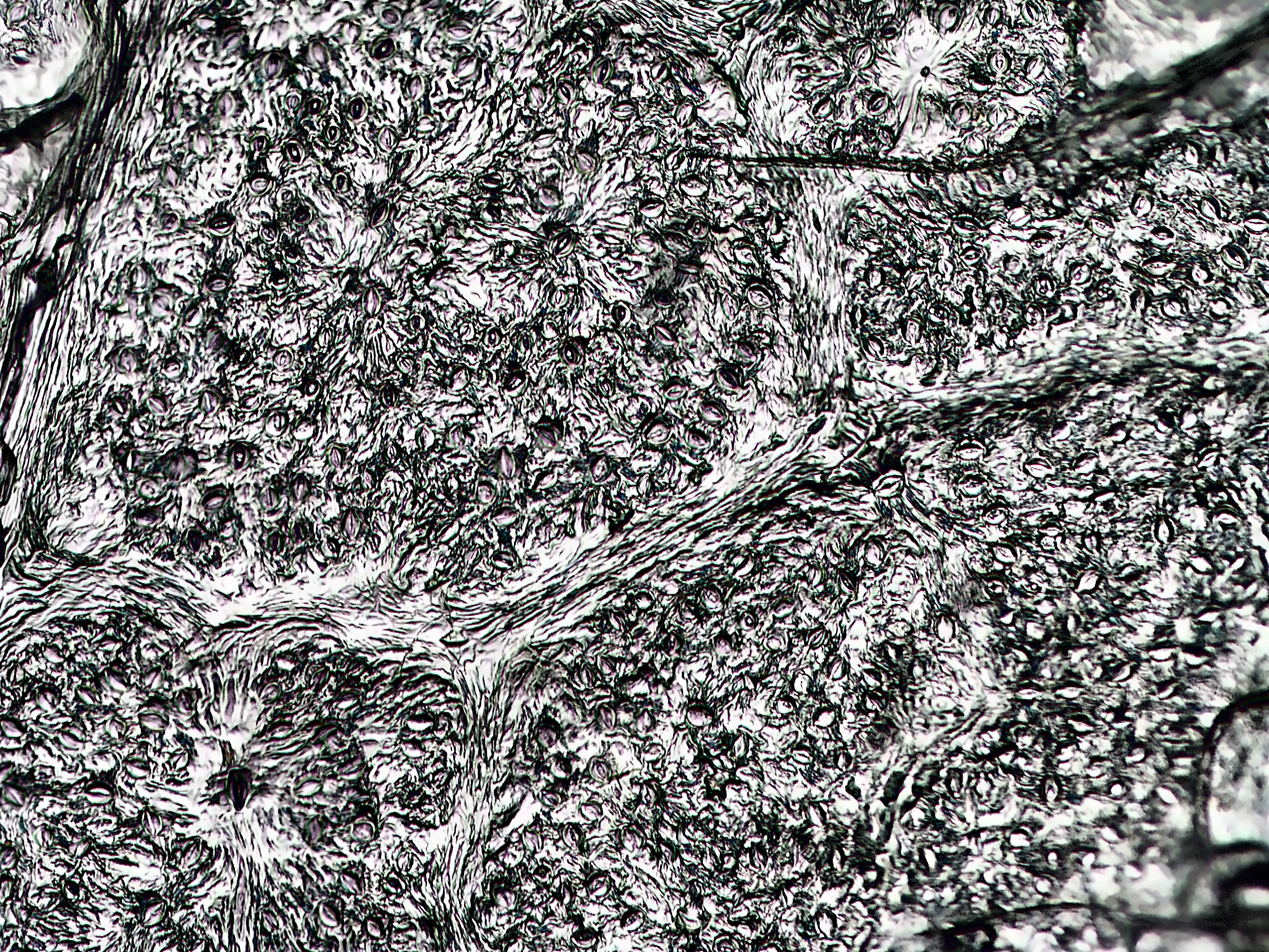stomata: (226, 769, 249, 812), (138, 704, 169, 731), (936, 3, 961, 34), (495, 446, 517, 481), (952, 437, 985, 460), (1220, 242, 1248, 269), (551, 230, 577, 259), (959, 472, 988, 498), (141, 898, 167, 927), (84, 781, 114, 806), (816, 906, 838, 940), (1021, 301, 1045, 332), (1141, 256, 1176, 277), (102, 667, 130, 693), (727, 552, 755, 578), (850, 42, 875, 71), (903, 190, 932, 215), (643, 419, 672, 444), (713, 365, 742, 390), (228, 442, 253, 471), (179, 838, 203, 868), (1183, 646, 1214, 669), (987, 48, 1013, 75), (58, 725, 86, 750), (1074, 568, 1102, 593), (492, 882, 517, 910), (900, 316, 924, 345), (1039, 775, 1063, 804), (361, 285, 382, 318), (1012, 683, 1045, 704), (951, 214, 981, 237), (698, 401, 728, 424), (933, 613, 956, 643), (1153, 513, 1175, 544), (684, 706, 715, 728), (317, 900, 342, 927), (434, 518, 461, 543), (140, 808, 164, 836), (863, 536, 884, 568), (588, 757, 612, 785), (1022, 458, 1055, 478), (1108, 661, 1141, 681), (340, 508, 361, 539), (1055, 680, 1086, 701), (1031, 272, 1056, 298), (1130, 191, 1155, 217), (532, 423, 557, 449), (835, 569, 859, 596), (377, 125, 400, 153), (502, 373, 530, 396), (747, 285, 775, 308), (676, 99, 698, 128), (369, 199, 390, 229), (561, 823, 586, 848), (558, 340, 582, 366), (862, 333, 885, 360), (684, 427, 711, 450), (611, 300, 633, 328), (680, 175, 708, 197), (875, 475, 904, 496), (1182, 138, 1202, 168), (292, 417, 317, 441), (863, 690, 888, 714), (587, 872, 611, 897), (591, 58, 614, 84), (1089, 214, 1115, 237), (1129, 287, 1152, 313), (1072, 451, 1098, 474), (36, 685, 59, 711), (719, 291, 741, 318), (732, 245, 759, 267), (991, 542, 1018, 564), (491, 505, 518, 527), (731, 730, 750, 761), (378, 381, 399, 409), (1028, 232, 1056, 253), (290, 474, 311, 502), (414, 423, 435, 451), (122, 758, 150, 779), (1147, 641, 1175, 662), (378, 873, 407, 893), (636, 127, 660, 151), (778, 30, 802, 54), (129, 509, 161, 527), (554, 80, 577, 105), (863, 264, 886, 289), (1150, 224, 1175, 247), (263, 412, 288, 435), (142, 664, 165, 689), (258, 681, 283, 704), (308, 665, 331, 690), (620, 826, 643, 851), (183, 301, 205, 327), (958, 245, 984, 267), (293, 778, 323, 797), (264, 721, 294, 740), (404, 73, 425, 100), (986, 288, 1007, 315), (1007, 206, 1034, 227), (1024, 53, 1045, 80), (1188, 554, 1215, 575), (974, 772, 995, 799), (984, 1, 1004, 29), (1067, 714, 1095, 734), (920, 846, 940, 874), (1068, 262, 1092, 285), (338, 871, 362, 894), (700, 586, 724, 609), (828, 843, 847, 872), (283, 142, 305, 167), (371, 38, 396, 60), (301, 377, 323, 402), (652, 324, 677, 346), (684, 216, 709, 238), (962, 133, 984, 158), (926, 304, 951, 326), (168, 747, 190, 772), (620, 909, 645, 931), (521, 828, 543, 853), (1188, 262, 1214, 283), (590, 455, 611, 481), (638, 198, 665, 218), (490, 550, 517, 570), (364, 914, 384, 941), (1116, 562, 1143, 582), (571, 928, 598, 948), (967, 74, 995, 93), (574, 151, 597, 174), (1002, 254, 1025, 277), (1161, 295, 1184, 318), (455, 54, 477, 78), (867, 92, 889, 116), (862, 233, 886, 255), (950, 101, 972, 125), (33, 824, 55, 848), (173, 689, 195, 713), (525, 82, 546, 107), (247, 175, 272, 196), (1019, 0, 1040, 25), (1200, 195, 1221, 220), (260, 486, 281, 511), (350, 821, 375, 842), (792, 670, 813, 695), (596, 705, 617, 730), (883, 642, 904, 667), (709, 635, 734, 656), (449, 365, 469, 391), (982, 504, 1008, 524), (183, 529, 203, 555), (75, 686, 101, 706), (1213, 508, 1239, 528), (1196, 448, 1222, 468), (848, 302, 867, 329), (578, 661, 597, 688), (548, 285, 570, 308), (537, 186, 560, 208), (812, 97, 834, 120), (138, 476, 160, 499), (580, 801, 603, 823), (551, 755, 573, 778), (40, 642, 64, 663), (406, 714, 434, 732), (983, 576, 1007, 597), (945, 769, 963, 797), (199, 390, 219, 415), (936, 253, 956, 278), (907, 656, 927, 681), (326, 443, 345, 469), (750, 844, 769, 870), (651, 290, 678, 308), (401, 740, 428, 758), (250, 136, 272, 158), (985, 104, 1007, 126), (737, 609, 759, 631), (205, 273, 229, 293), (905, 271, 929, 291), (535, 470, 559, 490), (72, 835, 92, 859), (596, 652, 616, 676), (812, 707, 836, 727), (606, 608, 626, 632), (610, 103, 638, 120), (209, 214, 234, 233), (317, 324, 336, 349), (662, 381, 687, 400), (201, 491, 226, 510), (383, 440, 401, 466), (640, 781, 658, 807), (105, 716, 126, 738), (806, 626, 827, 648), (650, 60, 670, 83), (239, 392, 262, 412), (833, 747, 853, 770), (1083, 527, 1100, 554), (333, 692, 360, 709), (145, 395, 169, 414), (631, 232, 655, 251), (596, 375, 615, 399), (402, 788, 426, 807), (642, 742, 666, 761), (516, 330, 534, 355), (1033, 596, 1058, 614), (808, 801, 825, 827), (259, 223, 280, 244), (971, 175, 992, 196), (348, 98, 368, 120), (442, 471, 461, 494), (827, 656, 846, 679), (771, 598, 794, 617), (806, 564, 824, 588), (665, 631, 683, 655), (161, 358, 182, 378), (108, 397, 128, 418), (862, 668, 883, 688), (826, 131, 845, 153), (775, 697, 798, 715), (791, 747, 814, 765), (637, 473, 654, 497), (533, 131, 558, 147), (500, 239, 520, 259), (267, 530, 283, 555), (432, 766, 452, 786), (332, 172, 351, 193), (482, 326, 501, 347), (875, 127, 896, 146), (291, 208, 313, 226), (359, 469, 377, 491), (633, 591, 655, 609), (273, 350, 293, 369), (910, 223, 929, 243), (321, 538, 339, 559), (289, 521, 306, 543), (763, 633, 785, 650), (480, 173, 503, 189), (1038, 523, 1064, 537), (306, 96, 324, 116), (269, 271, 289, 289), (1052, 421, 1072, 439), (779, 886, 795, 908), (396, 849, 412, 871), (323, 125, 342, 143), (397, 356, 415, 375), (407, 314, 426, 332), (234, 348, 251, 366), (459, 323, 475, 342)
